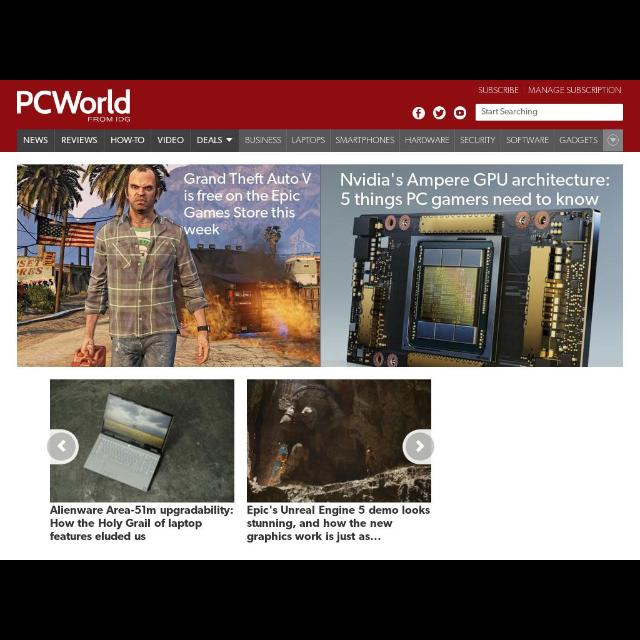button: (47, 432, 77, 462), (405, 433, 435, 461), (603, 130, 623, 152)
icon: (607, 134, 619, 146), (416, 440, 424, 452), (58, 440, 66, 452), (225, 136, 232, 144)
image: (17, 165, 320, 368), (321, 164, 624, 366), (246, 380, 432, 502), (50, 380, 234, 502), (17, 89, 132, 123), (412, 106, 426, 120), (432, 106, 446, 120), (454, 106, 466, 120)
input: (474, 104, 624, 120)
spinner: (191, 130, 239, 152)
text: (340, 172, 610, 210), (184, 172, 312, 235), (247, 505, 431, 543), (50, 505, 234, 541), (528, 86, 622, 94), (335, 136, 395, 144), (482, 108, 538, 116), (405, 136, 451, 144), (109, 135, 145, 145), (506, 136, 550, 144), (478, 86, 520, 94), (558, 136, 598, 144), (245, 136, 283, 144), (61, 136, 98, 144), (290, 136, 326, 144), (460, 136, 496, 144), (197, 136, 223, 146), (158, 136, 185, 144), (22, 136, 48, 144)
toolbar: (1, 80, 640, 152)
